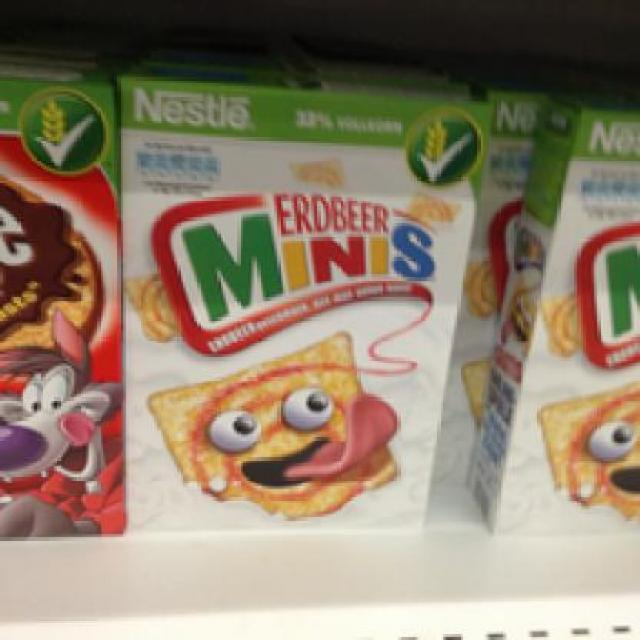Cereal: (113, 66, 490, 526), (0, 79, 109, 535)
